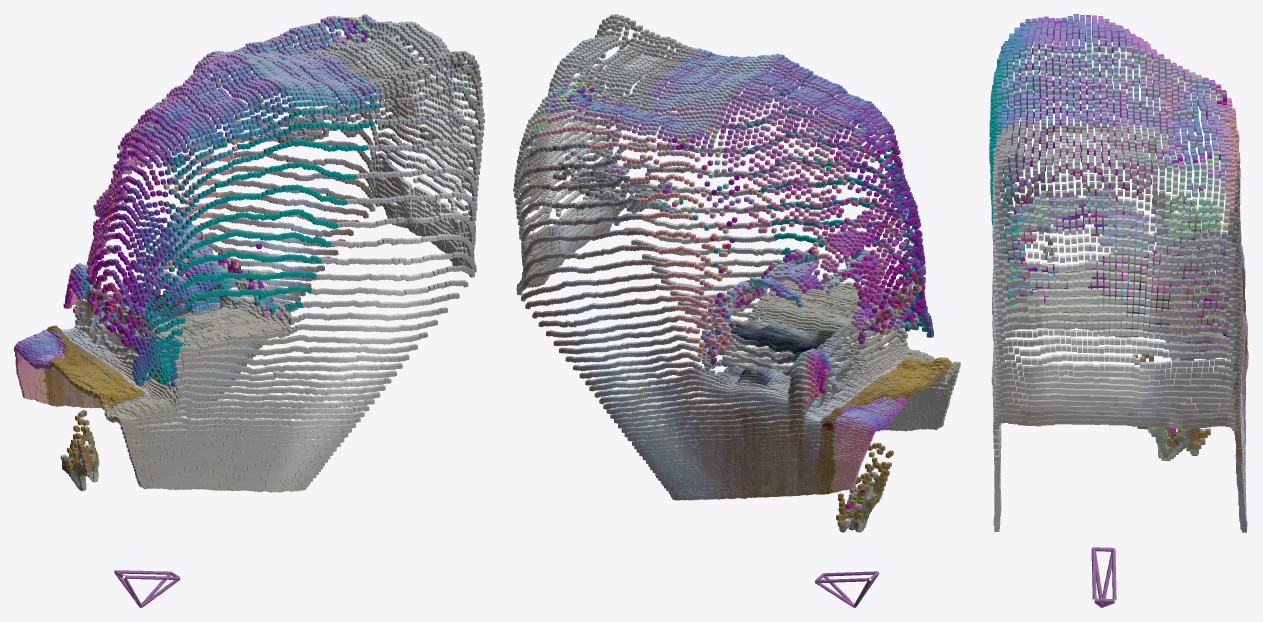
The model's file is pred_3-compressed.glb.
3 renders of one model, left to right at view 1: azimuth 30°, elevation 25°; view 2: azimuth 150°, elevation 25°; view 3: azimuth 270°, elevation 25°, orthographic. The views are drawn at different scales.
Size of the model in its own units: 5.28 by 6.91 by 2.59.
